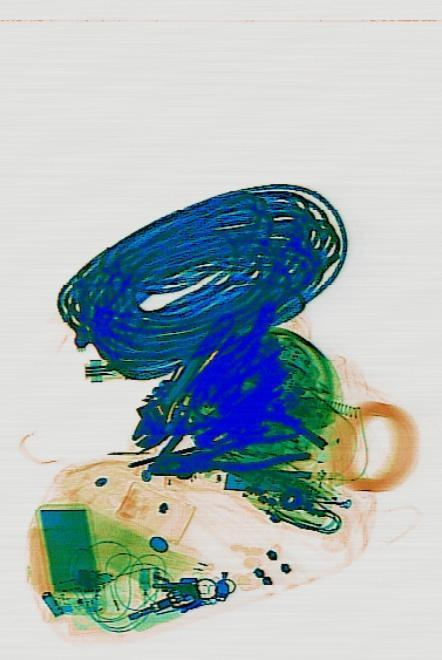Pliers: (144, 423, 309, 487)
Wrench: (119, 290, 246, 465)
